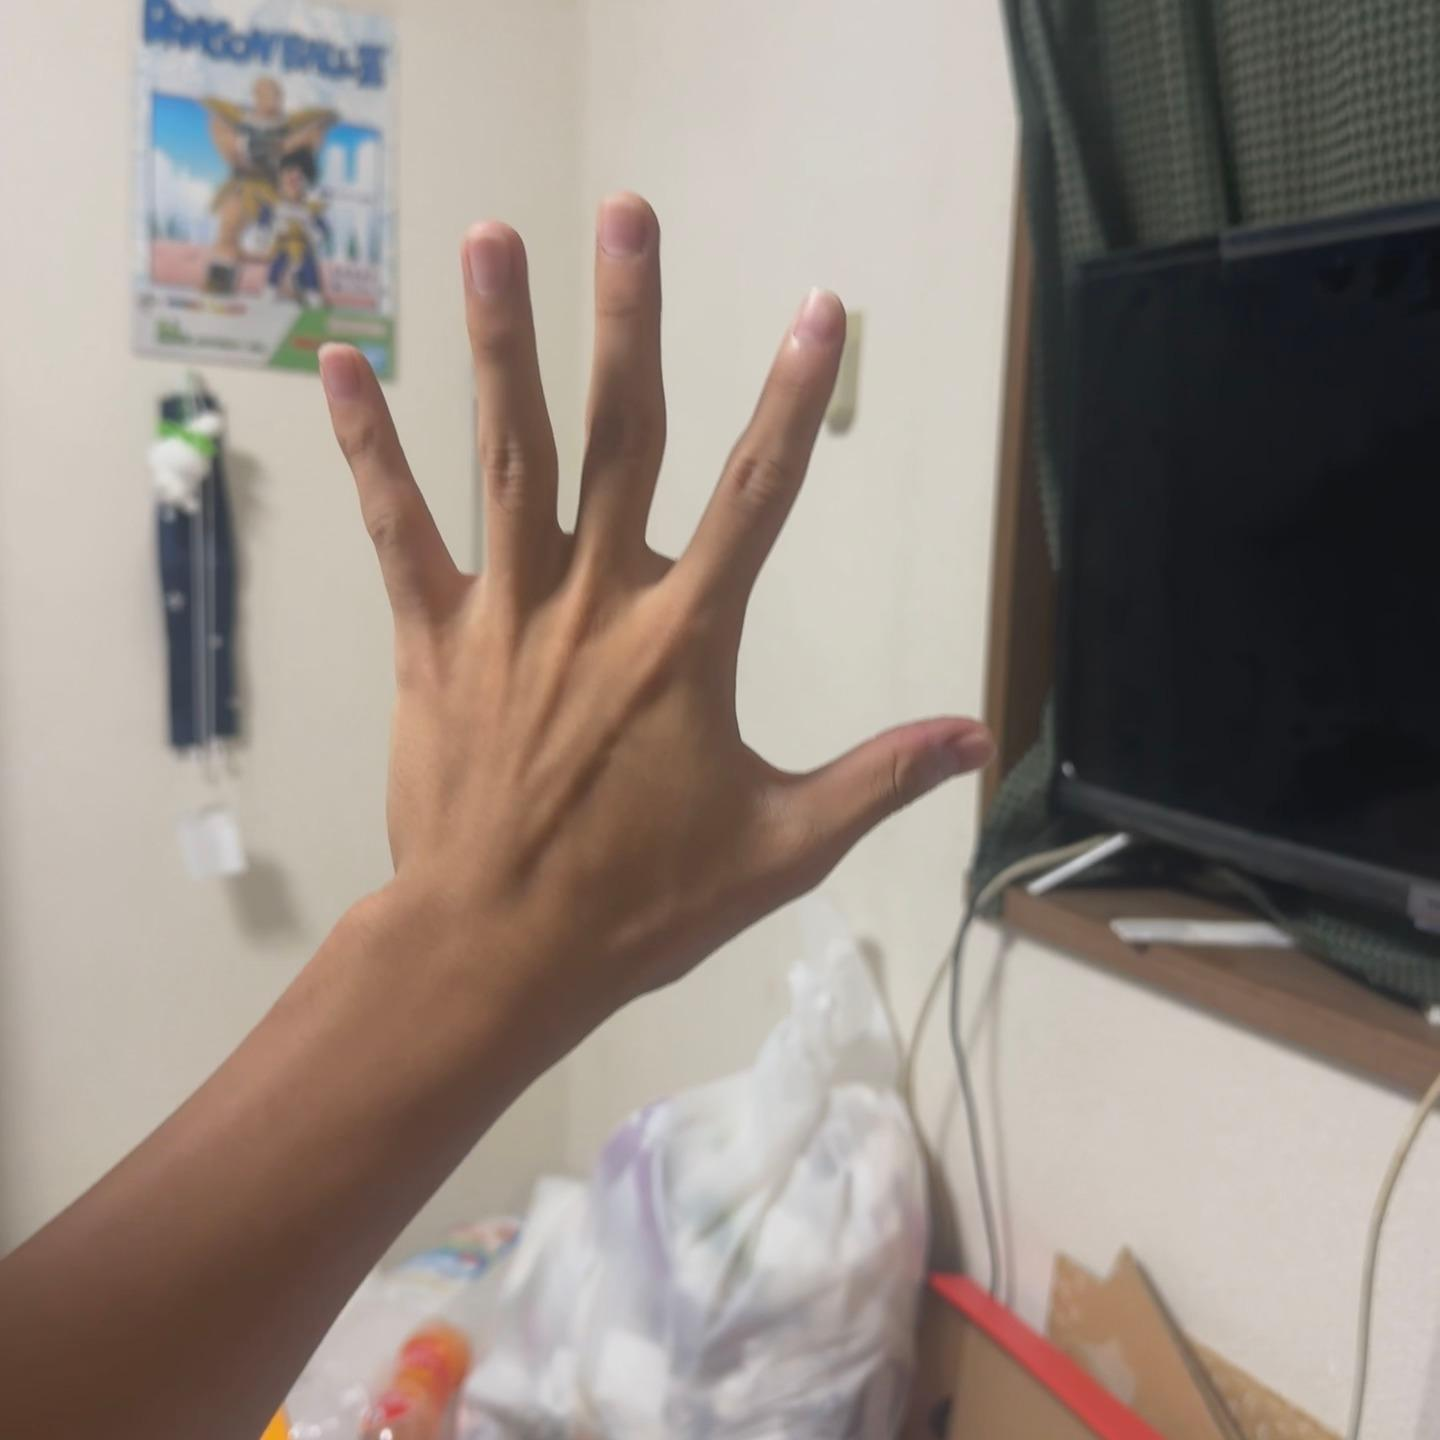without_gloves: (179, 92, 1254, 1215)
